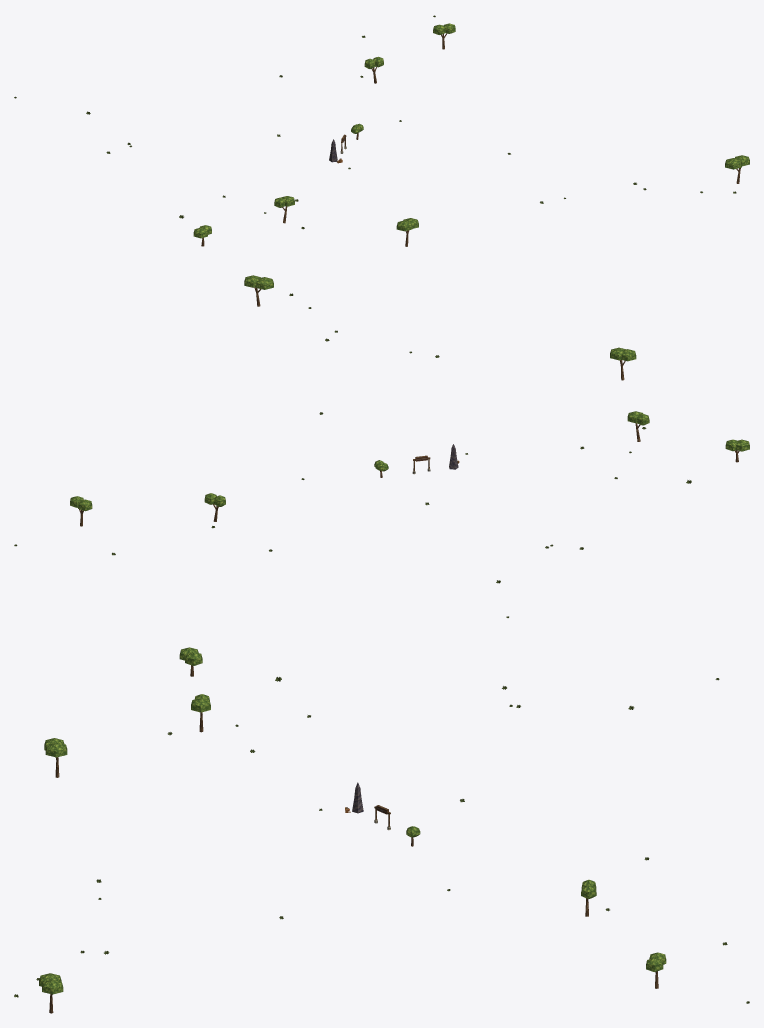
File: FieldCell_5_2.fbx
3 renders of one model, top to bottom at view 1: azimuth 30°, elevation 25°; view 2: azimuth 150°, elevation 25°; view 3: azimuth 270°, elevation 25°, orthographic. The views are drawn at different scales.
Parts seen in each view (by area): view 1: FieldCell_5_2; view 2: FieldCell_5_2; view 3: FieldCell_5_2.
Boxes of the visible parts, left/top/right/bottom form: FieldCell_5_2: left=193, top=23, right=749, bottom=246; FieldCell_5_2: left=70, top=275, right=749, bottom=526; FieldCell_5_2: left=39, top=647, right=666, bottom=1013.
Size of the model in its own units: 15710 by 1702 by 14844.
